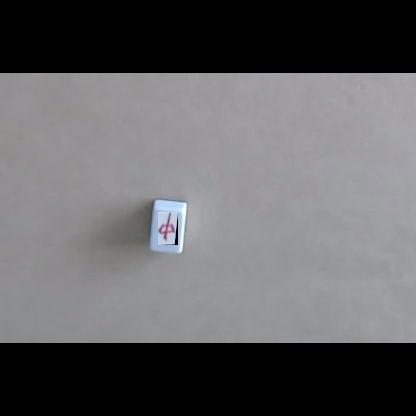7z: (158, 212, 178, 245)
